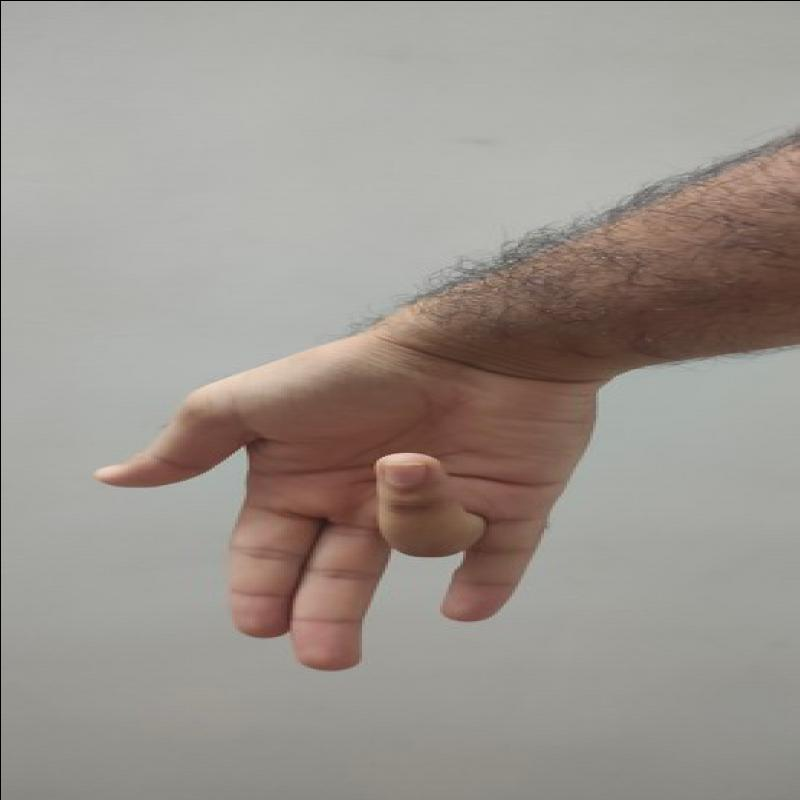Pathaaka: (68, 332, 619, 688)
